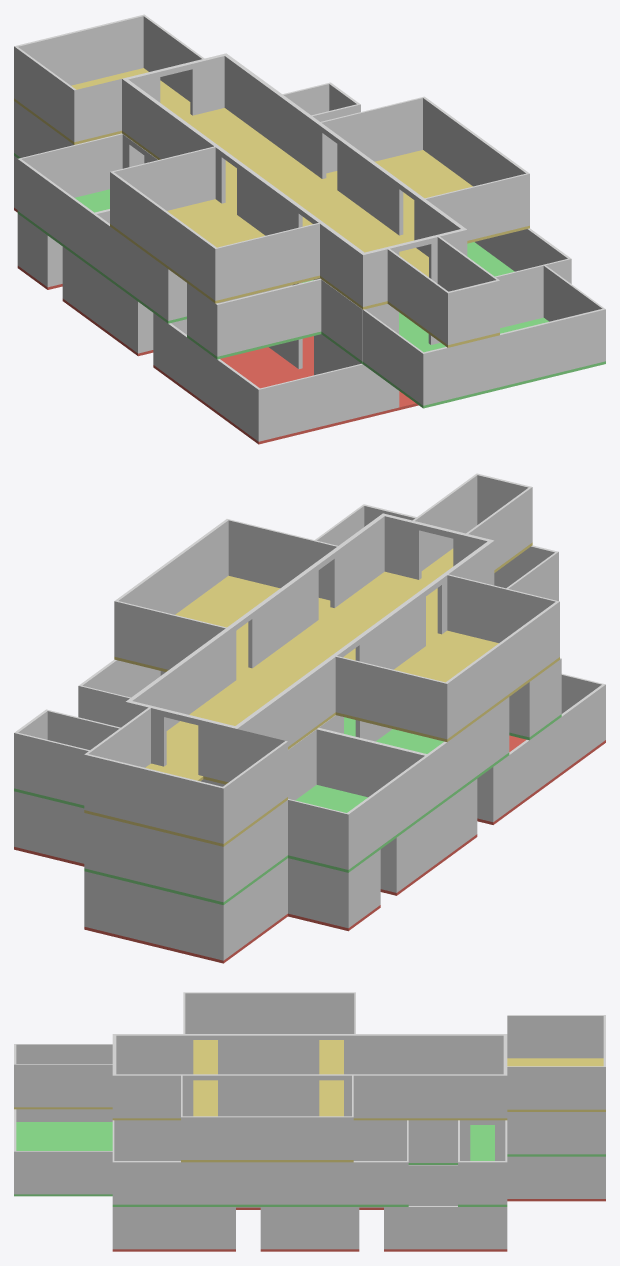
The model's file is building.glb.
The picture shows the model from 3 angles, top to bottom: view 1: azimuth 30°, elevation 25°; view 2: azimuth 150°, elevation 25°; view 3: azimuth 270°, elevation 25°; orthographic projection. The views are drawn at different scales.
Visible parts, largest first — view 1: Wall_18, Wall_20, Wall_16, Wall_22, Wall_19, Wall_05, Room_18, Wall_13, Wall_21, Wall_15, Wall_12, Wall_14 (+15 smaller); view 2: Wall_18, Wall_20, Wall_22, Wall_19, Wall_13, Room_18, Wall_17, Wall_08, Wall_05, Wall_21, Wall_10, Wall_06 (+15 smaller); view 3: Wall_18, Wall_22, Wall_09, Wall_19, Wall_12, Wall_20, Wall_21, Wall_16, Wall_11, Wall_03, Wall_04, Wall_02 (+14 smaller).
Part boxes in pixels (<box>): Wall_18: <box>122,53,467,306</box>; Wall_20: <box>110,146,319,300</box>; Wall_16: <box>363,265,605,405</box>; Wall_22: <box>14,14,204,142</box>; Wall_19: <box>320,96,529,240</box>; Wall_05: <box>153,313,362,441</box>; Room_18: <box>122,108,428,309</box>; Wall_13: <box>17,133,122,265</box>; Wall_21: <box>387,236,499,344</box>; Wall_15: <box>187,278,321,356</box>; Wall_12: <box>475,228,571,328</box>; Wall_14: <box>93,210,186,320</box>; Wall_18: <box>125,513,494,780</box>; Wall_20: <box>335,574,559,739</box>; Wall_22: <box>84,707,287,843</box>; Wall_19: <box>114,519,337,669</box>; Wall_13: <box>288,728,428,869</box>; Room_18: <box>164,571,441,774</box>; Wall_17: <box>84,779,287,902</box>; Wall_08: <box>84,858,287,960</box>; Wall_05: <box>477,673,605,822</box>; Wall_21: <box>412,473,532,570</box>; Wall_10: <box>14,709,120,805</box>; Wall_06: <box>380,779,477,892</box>; Wall_18: <box>112,1034,507,1118</box>; Wall_22: <box>507,1015,605,1109</box>; Wall_09: <box>114,1120,505,1162</box>; Wall_19: <box>181,1075,353,1159</box>; Wall_12: <box>112,1120,285,1204</box>; Wall_20: <box>183,992,355,1033</box>; Wall_21: <box>14,1044,112,1107</box>; Wall_16: <box>14,1109,112,1194</box>; Wall_11: <box>285,1120,408,1204</box>; Wall_03: <box>384,1206,507,1249</box>; Wall_04: <box>112,1207,235,1249</box>; Wall_02: <box>260,1207,359,1249</box>.
Bounding box in the file's own units: 12 × 6 × 24.
